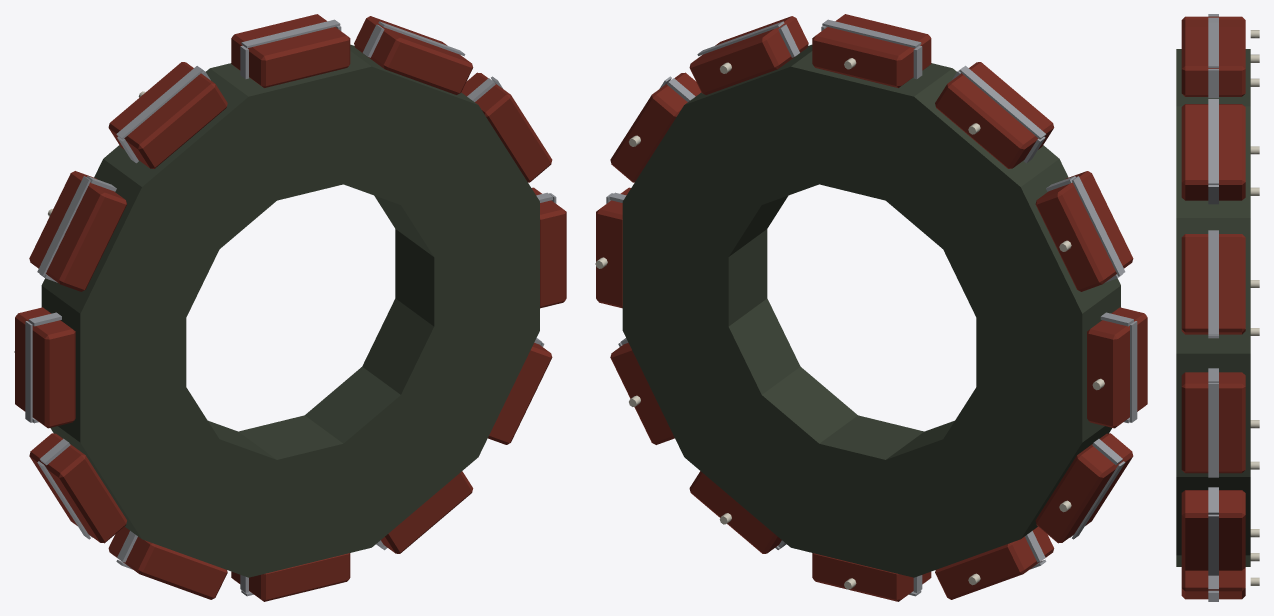
Rendered from tz28v_coil_ring.obj.
3 renders of one model, left to right at view 1: azimuth 30°, elevation 25°; view 2: azimuth 150°, elevation 25°; view 3: azimuth 270°, elevation 25°, orthographic. The views are drawn at different scales.
Parts seen in each view (by area): view 1: tz28v_coil_ring; view 2: tz28v_coil_ring; view 3: tz28v_coil_ring.
Boxes of the visible parts, x1,y1,x2,y2 form: tz28v_coil_ring: (14,14,566,601); tz28v_coil_ring: (595,14,1147,601); tz28v_coil_ring: (1176,14,1259,601).
Size of the model in its own units: 6.65 by 6.65 by 0.95.
